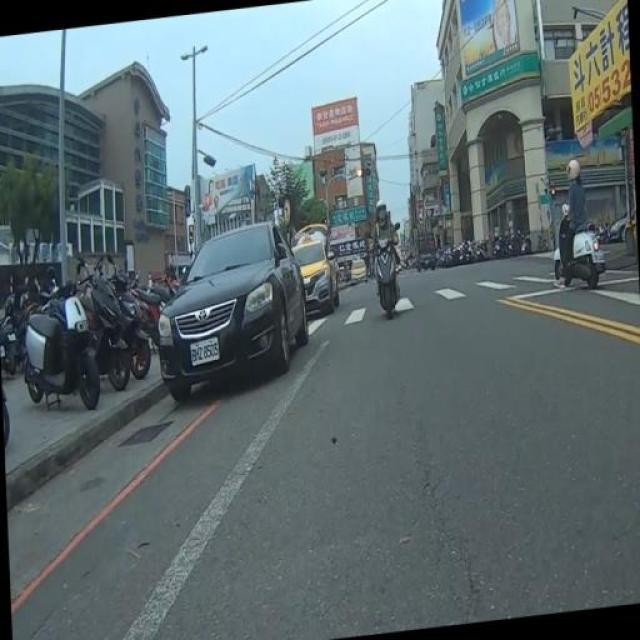Legalparking: (0, 250, 157, 453)
illegalparking: (146, 230, 328, 409)
